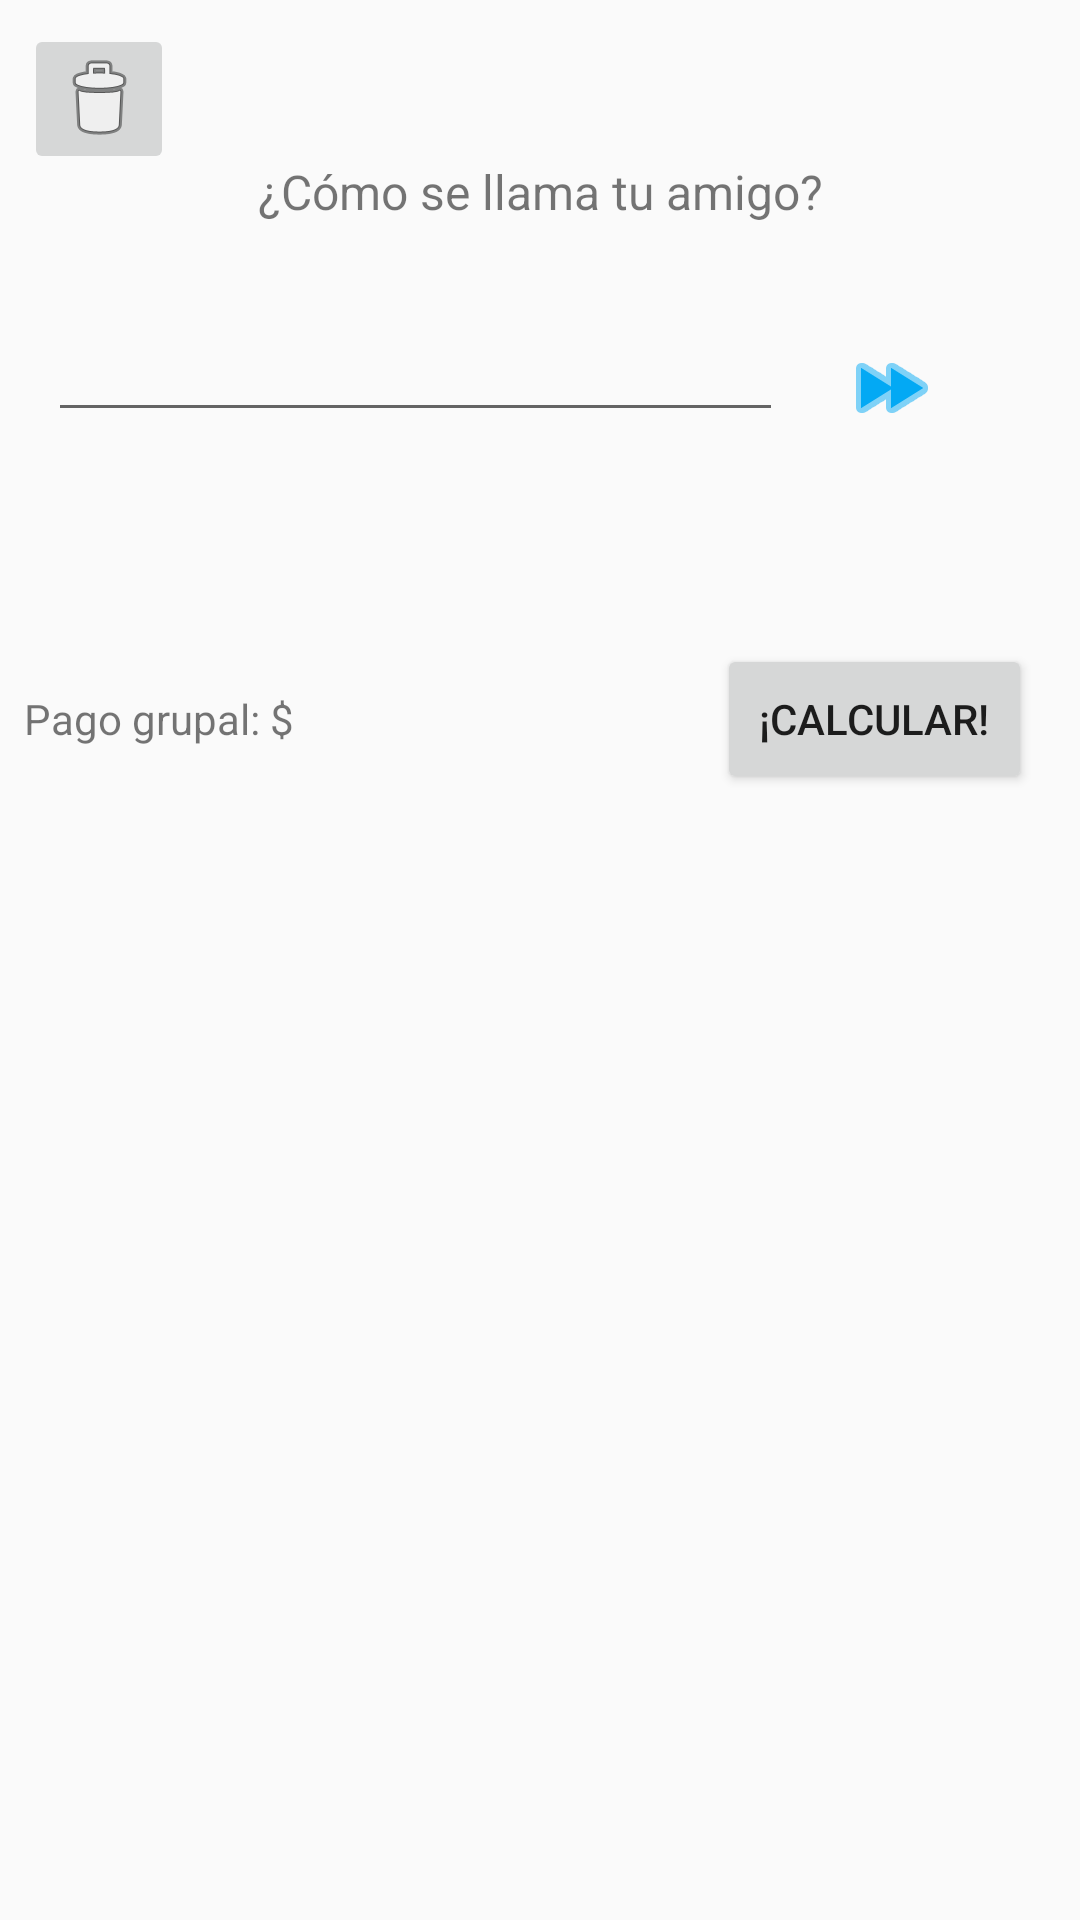

Icons on this 1080px×1920px Android screen, each with the point to tap as point (x, y):
Borrar Listado: point (99, 99)
